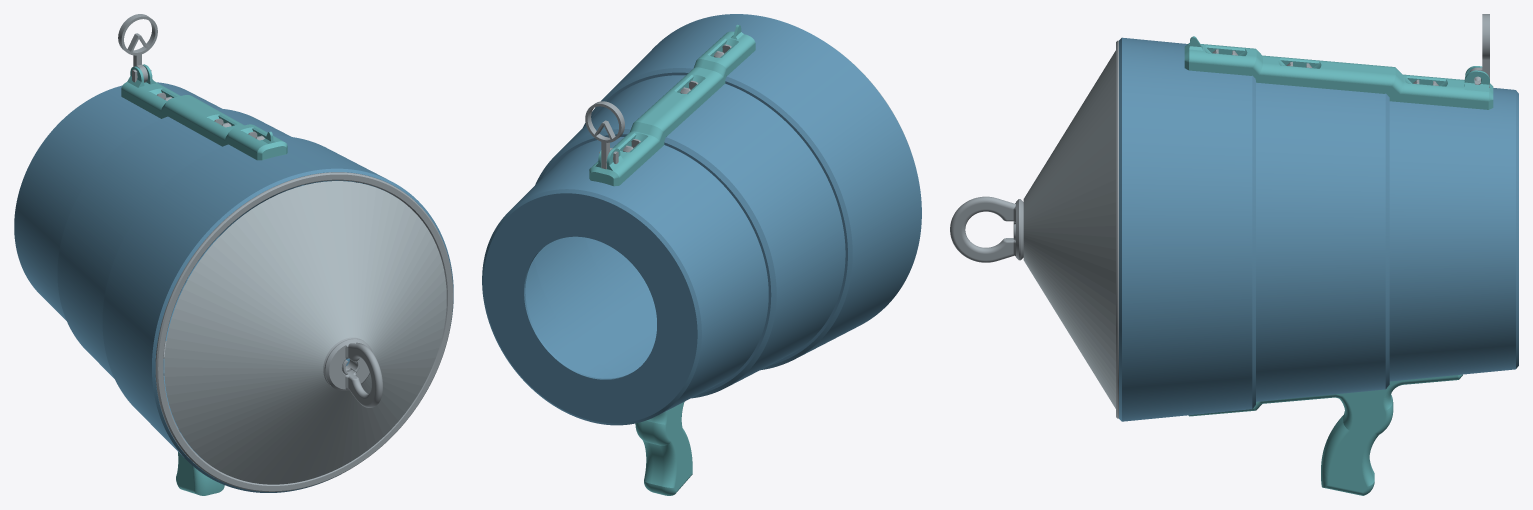
Rendered from full-stock-pull-60mm-study.glb.
3 views of the same model, side by side, from view 1: azimuth 30°, elevation 25°; view 2: azimuth 150°, elevation 25°; view 3: azimuth 270°, elevation 25° (orthographic). The views are drawn at different scales.
Visible parts, largest first — view 1: film-study-not-manufactured-part, obj_7_AirZooka03_RingBack.STEP.stl, obj_8_AirZooka03_RingMiddle.STEP.stl, obj_6_AirZooka03_RingFront.STEP.stl, obj_10_BackClampRing4.STEP.stl, obj_3_TopClamp3.STEP.stl, obj_5_PinchRingCap3.STEP.stl, obj_4_Handle03.STEP.stl, obj_2_Sight2.STEP.stl; view 2: obj_6_AirZooka03_RingFront.STEP.stl, obj_8_AirZooka03_RingMiddle.STEP.stl, obj_7_AirZooka03_RingBack.STEP.stl, obj_3_TopClamp3.STEP.stl, obj_4_Handle03.STEP.stl, obj_2_Sight2.STEP.stl; view 3: obj_7_AirZooka03_RingBack.STEP.stl, obj_8_AirZooka03_RingMiddle.STEP.stl, obj_6_AirZooka03_RingFront.STEP.stl, film-study-not-manufactured-part, obj_3_TopClamp3.STEP.stl, obj_4_Handle03.STEP.stl, obj_5_PinchRingCap3.STEP.stl, obj_10_BackClampRing4.STEP.stl.
Part boxes in pixels (x1,y1,x2,y2): film-study-not-manufactured-part: [164, 181, 446, 484]; obj_7_AirZooka03_RingBack.STEP.stl: [102, 136, 453, 492]; obj_8_AirZooka03_RingMiddle.STEP.stl: [57, 108, 362, 432]; obj_6_AirZooka03_RingFront.STEP.stl: [14, 82, 303, 375]; obj_10_BackClampRing4.STEP.stl: [155, 172, 453, 491]; obj_3_TopClamp3.STEP.stl: [121, 64, 287, 160]; obj_5_PinchRingCap3.STEP.stl: [324, 338, 382, 407]; obj_4_Handle03.STEP.stl: [176, 452, 224, 495]; obj_2_Sight2.STEP.stl: [118, 14, 157, 82]; obj_6_AirZooka03_RingFront.STEP.stl: [482, 137, 768, 425]; obj_8_AirZooka03_RingMiddle.STEP.stl: [534, 75, 845, 398]; obj_7_AirZooka03_RingBack.STEP.stl: [583, 14, 921, 370]; obj_3_TopClamp3.STEP.stl: [589, 24, 755, 186]; obj_4_Handle03.STEP.stl: [635, 402, 692, 495]; obj_2_Sight2.STEP.stl: [585, 101, 624, 169]; obj_7_AirZooka03_RingBack.STEP.stl: [1119, 37, 1255, 421]; obj_8_AirZooka03_RingMiddle.STEP.stl: [1256, 82, 1389, 401]; obj_6_AirZooka03_RingFront.STEP.stl: [1389, 88, 1518, 381]; film-study-not-manufactured-part: [1023, 50, 1115, 408]; obj_3_TopClamp3.STEP.stl: [1184, 36, 1493, 109]; obj_4_Handle03.STEP.stl: [1188, 374, 1462, 495]; obj_5_PinchRingCap3.STEP.stl: [950, 196, 1023, 262]; obj_10_BackClampRing4.STEP.stl: [1116, 40, 1118, 418].
Bounding box in the file's own units: 0.2496 × 0.341 × 0.3698.
